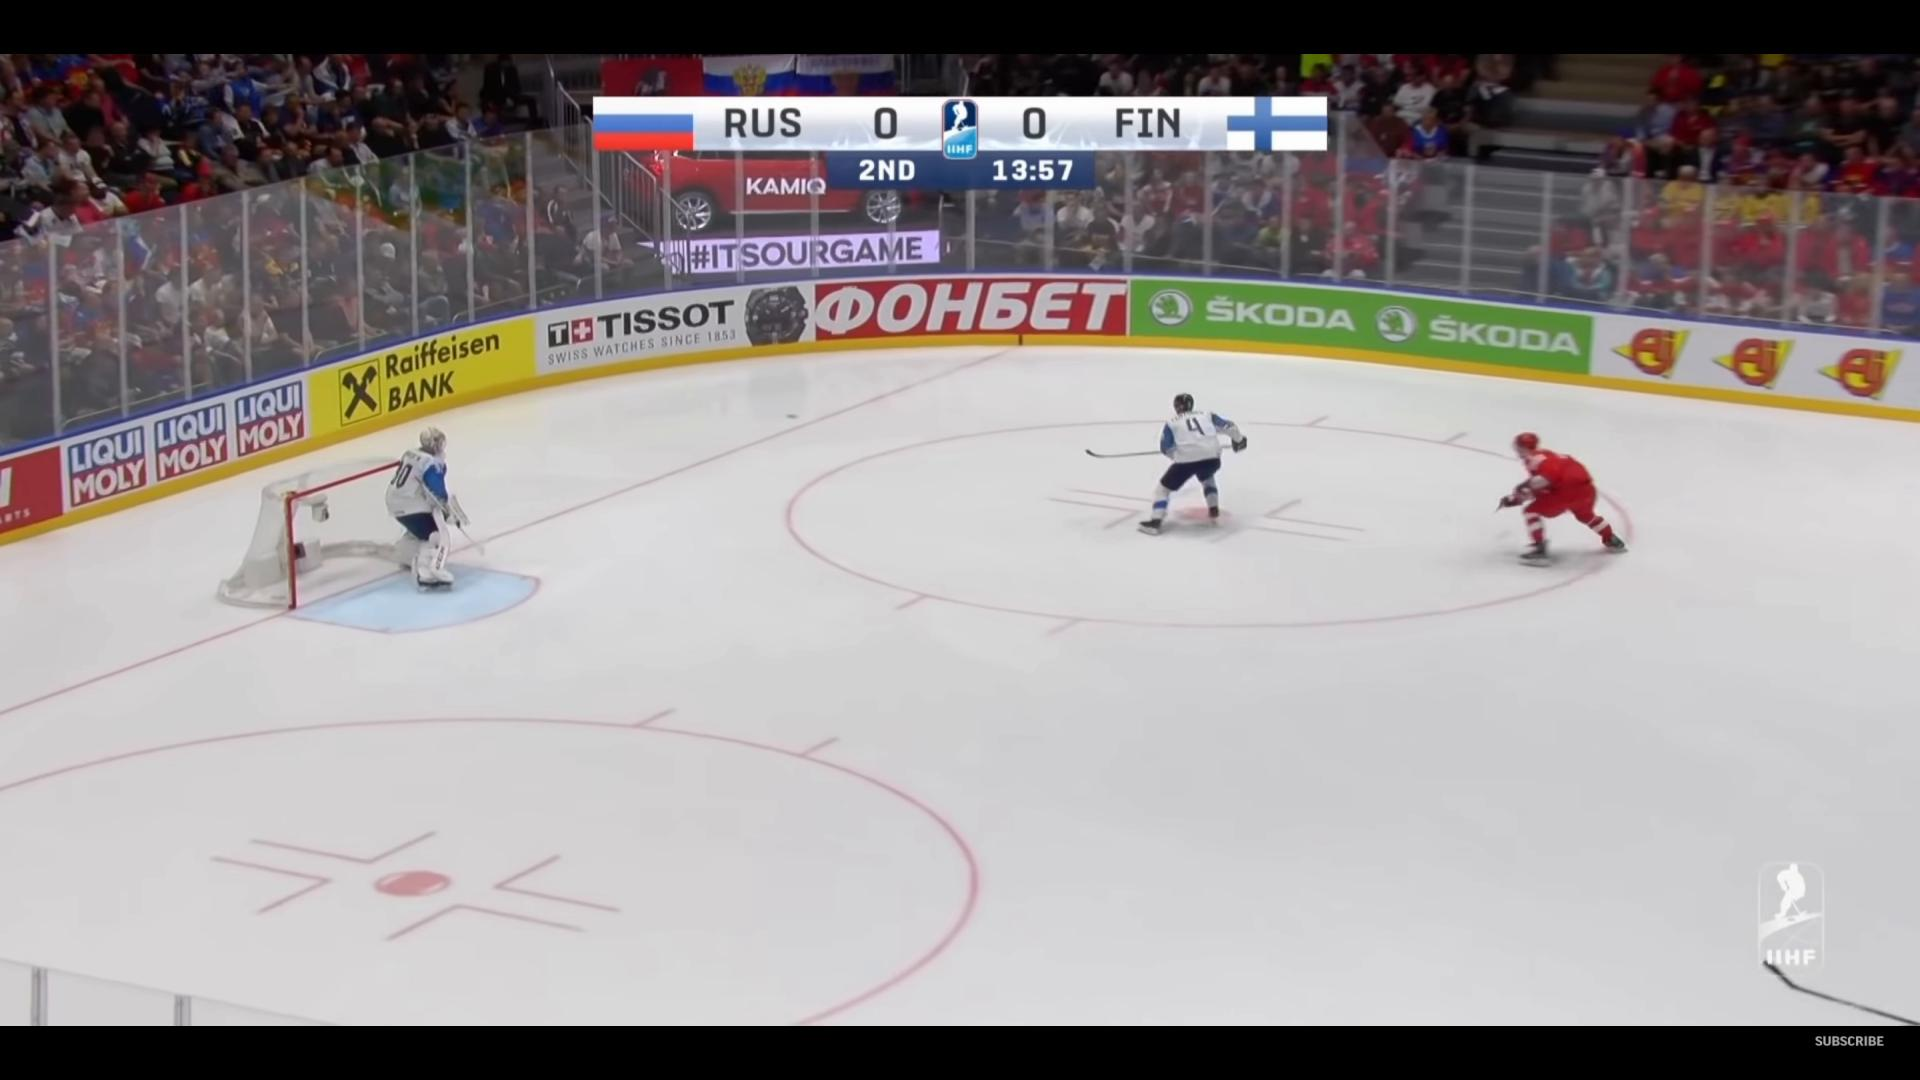puck: (784, 413, 798, 419)
